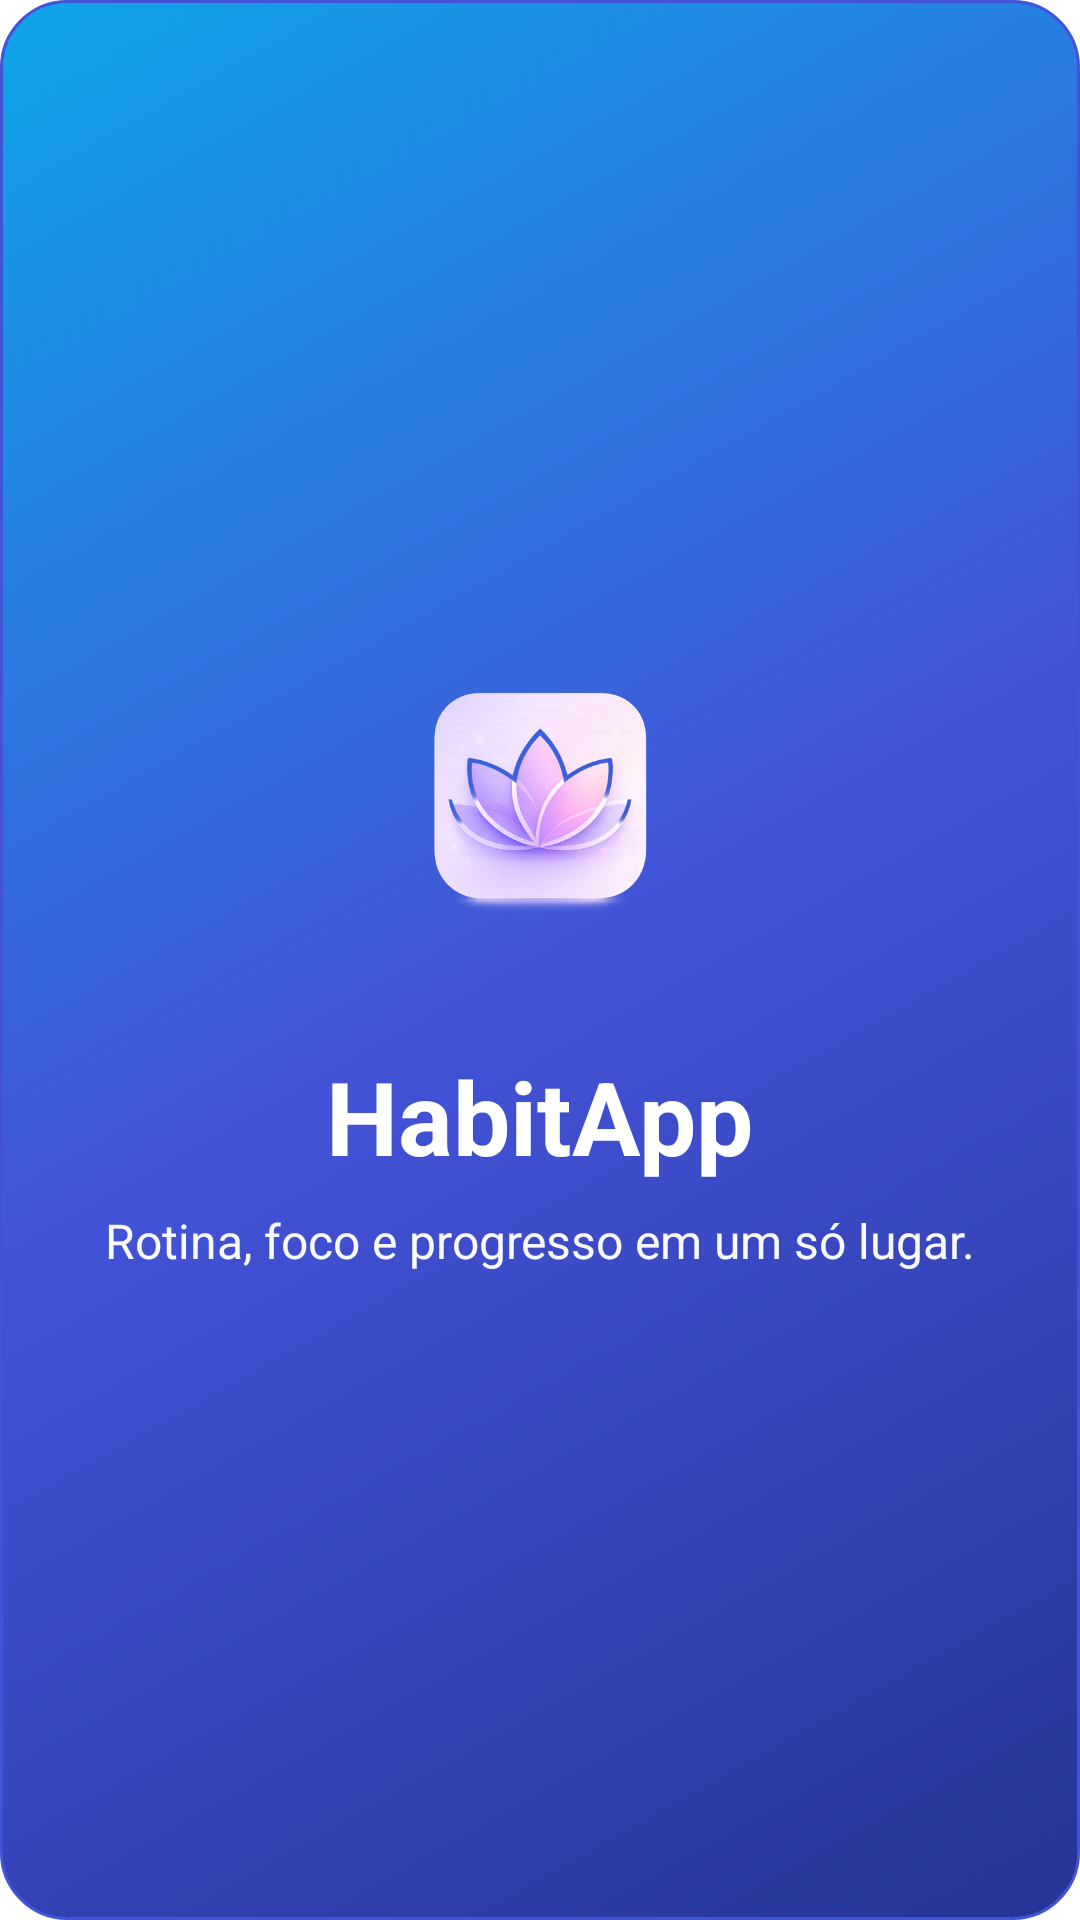

Icons on this 1080x1920 Android screen, each with its box as bbox(x1, y1, x2, y2):
app: bbox(434, 692, 647, 907)
